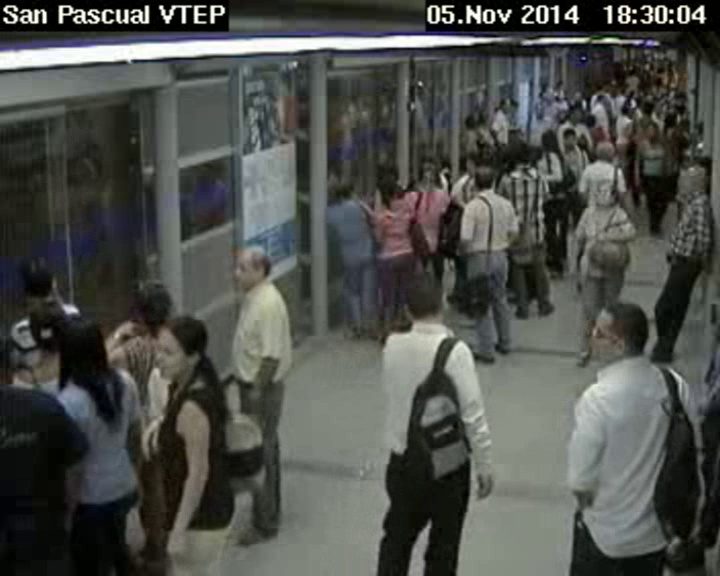person: (583, 296, 660, 372), (149, 312, 217, 387), (49, 313, 113, 386), (398, 271, 448, 329), (17, 248, 58, 311), (125, 278, 177, 321), (227, 243, 271, 293), (25, 299, 66, 343), (678, 161, 709, 196), (369, 172, 402, 201), (587, 179, 619, 208), (332, 176, 360, 204), (418, 155, 439, 185), (508, 143, 532, 168), (472, 165, 492, 192), (594, 139, 616, 163), (540, 129, 562, 148), (560, 129, 578, 152), (461, 154, 477, 175), (469, 107, 489, 123), (638, 99, 655, 116), (646, 122, 660, 141), (665, 107, 678, 126), (498, 96, 510, 115), (585, 110, 597, 128), (568, 108, 582, 123), (618, 103, 629, 117), (553, 79, 565, 90), (595, 94, 607, 104), (540, 90, 546, 101), (544, 83, 550, 92)
